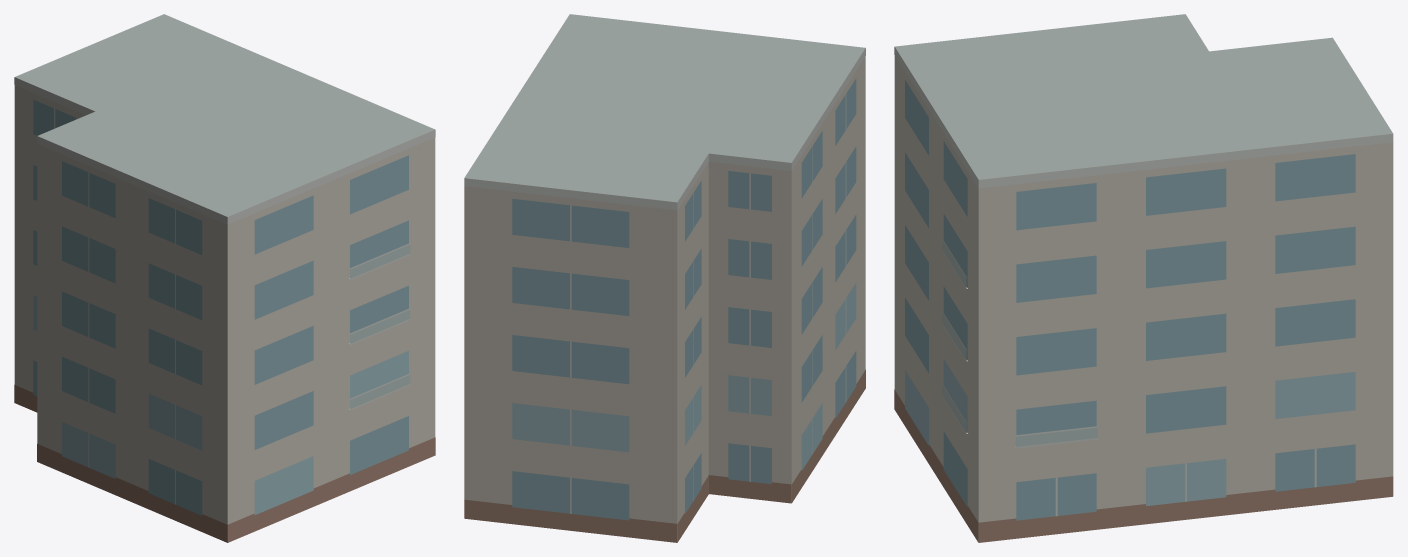
Rendered from survey-upis-32693630.glb.
3 renders of one model, left to right at view 1: azimuth 30°, elevation 25°; view 2: azimuth 150°, elevation 25°; view 3: azimuth 270°, elevation 25°, orthographic. The views are drawn at different scales.
Parts seen in each view (by area): view 1: survey-upis-32693630.tmp; view 2: survey-upis-32693630.tmp; view 3: survey-upis-32693630.tmp.
Boxes of the visible parts, box(x1,y1,x2,y2) form: survey-upis-32693630.tmp: box(14, 14, 435, 542); survey-upis-32693630.tmp: box(464, 14, 865, 542); survey-upis-32693630.tmp: box(894, 14, 1393, 542).
Size of the model in its own units: 10.21 by 10.4 by 12.96.
